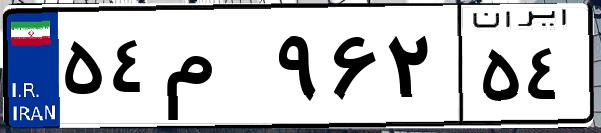2: (385, 28, 445, 110)
4: (525, 38, 570, 115), (110, 28, 158, 98)
5: (57, 26, 110, 100), (475, 38, 525, 113)
6: (330, 28, 385, 110)
9: (270, 28, 330, 110)
م: (158, 20, 270, 120)
